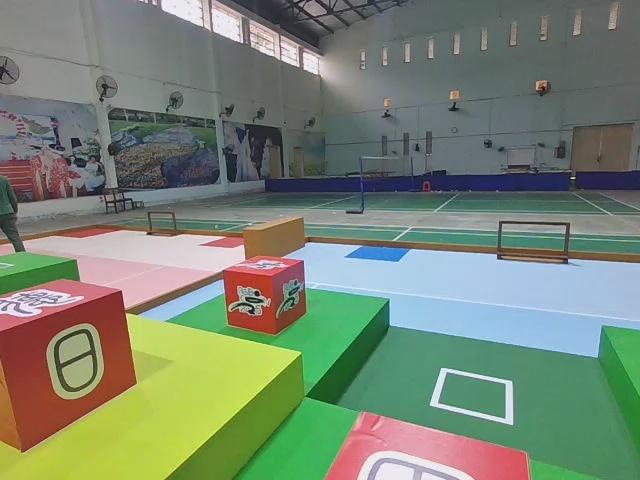R1: (224, 253, 307, 339)
R2 Fake: (0, 279, 139, 454)
